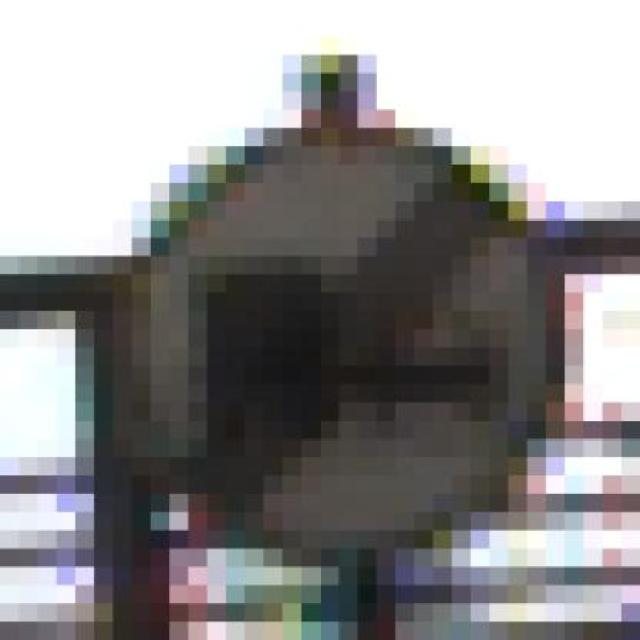Overtaking by trucks is prohibited: (56, 110, 621, 585)
